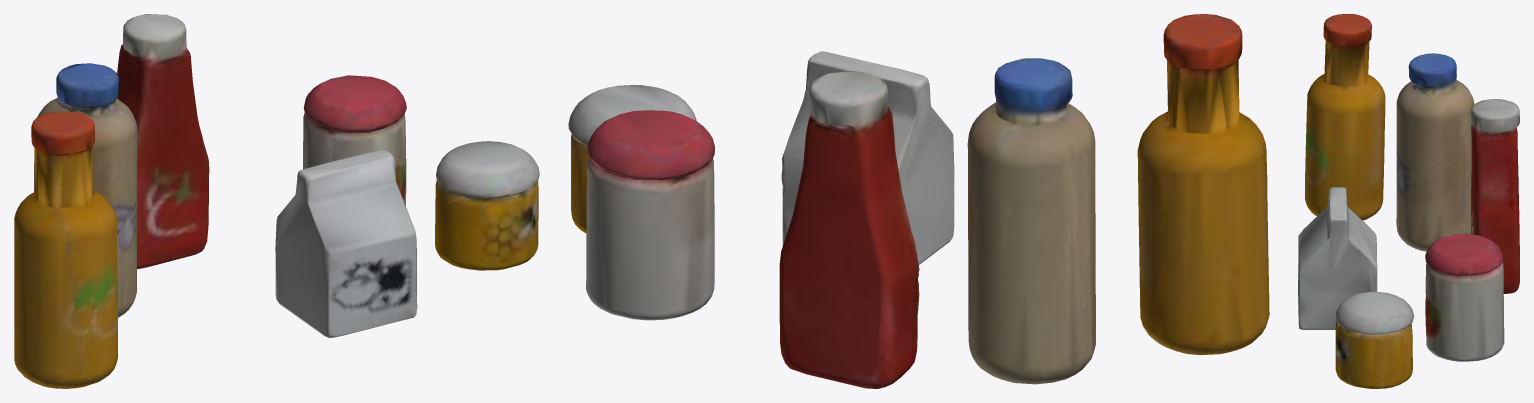
Rendered from FOOD_BEVERAGE_SET-high.glb.
3 views of the same model, side by side, from view 1: azimuth 30°, elevation 25°; view 2: azimuth 150°, elevation 25°; view 3: azimuth 270°, elevation 25° (orthographic). The views are drawn at different scales.
Visible parts, largest first — view 1: FOOD_BEVERAGE_SET; view 2: FOOD_BEVERAGE_SET; view 3: FOOD_BEVERAGE_SET.
Part boxes in pixels (bbox=[...]): FOOD_BEVERAGE_SET: bbox=[14, 14, 539, 388]; FOOD_BEVERAGE_SET: bbox=[568, 14, 1269, 388]; FOOD_BEVERAGE_SET: bbox=[1298, 14, 1519, 388].
Bounding box in the file's own units: 0.2671 × 0.1202 × 0.1275.
1 material, 1 textured.
